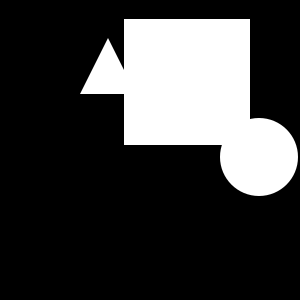circle: (124, 19, 250, 145), (143, 51, 172, 80)
rectangle: (220, 118, 298, 196), (164, 34, 183, 54)
triangle: (80, 38, 136, 94)
